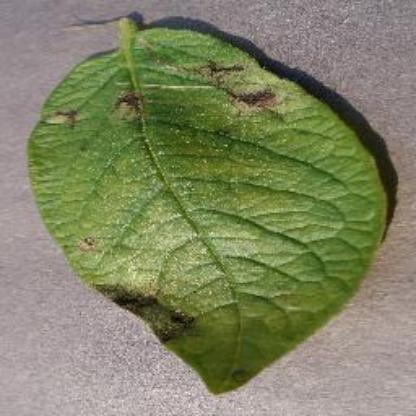Late-Blight: (28, 14, 396, 393)
